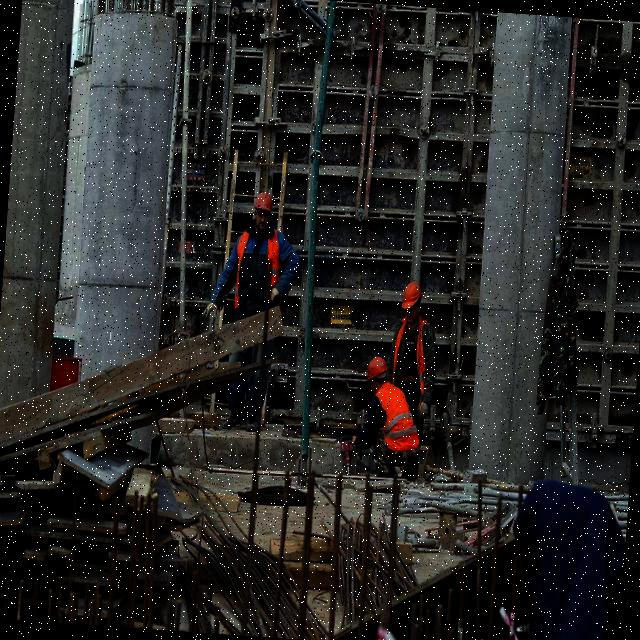Helmet: (400, 283, 422, 315), (365, 357, 389, 386), (255, 193, 275, 222)
Jacket: (231, 226, 284, 313), (369, 385, 415, 457), (392, 320, 434, 394)
